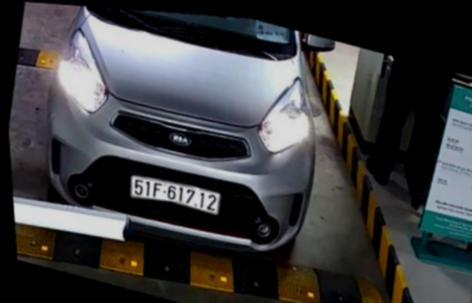License_Plate: (117, 170, 238, 227)
